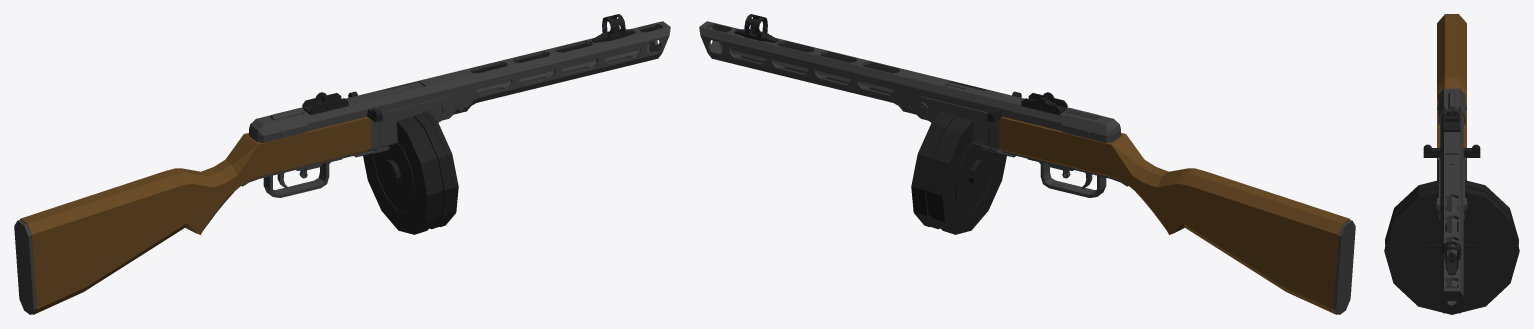
Rendered from PPSH41.fbx.
The picture shows the model from 3 angles, left to right: view 1: azimuth 30°, elevation 25°; view 2: azimuth 150°, elevation 25°; view 3: azimuth 270°, elevation 25°; orthographic projection.
Parts seen in each view (by area): view 1: Cube; view 2: Cube; view 3: Cube.
Part boxes in pixels (x1,y1,x2,y2): Cube: (14,14,670,314); Cube: (699,14,1355,314); Cube: (1384,14,1519,314).
Bounding box in the file's own units: 95.5 × 17.09 × 22.83.
